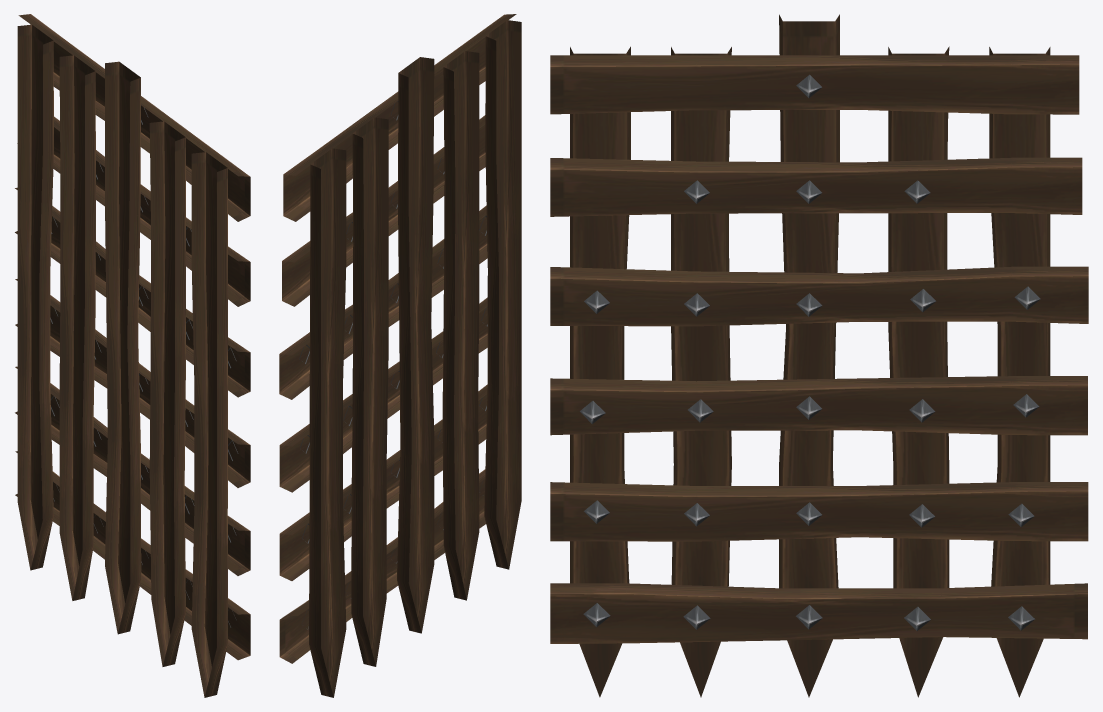
The model's file is A_CA_GEN_Portcullis_01.fbx.
3 views of the same model, side by side, from view 1: azimuth 30°, elevation 25°; view 2: azimuth 150°, elevation 25°; view 3: azimuth 270°, elevation 25° (orthographic). The views are drawn at different scales.
Visible parts, largest first — view 1: A_CR_GEN_Portcullis_01; view 2: A_CR_GEN_Portcullis_01; view 3: A_CR_GEN_Portcullis_01.
Boxes of the visible parts, left/top/right/bottom form: A_CR_GEN_Portcullis_01: left=15, top=14, right=250, bottom=697; A_CR_GEN_Portcullis_01: left=279, top=14, right=521, bottom=697; A_CR_GEN_Portcullis_01: left=550, top=14, right=1088, bottom=697.
Size of the model in its own units: 68.51 by 1027 by 741.
Materials: 1 (1 with a texture image).
